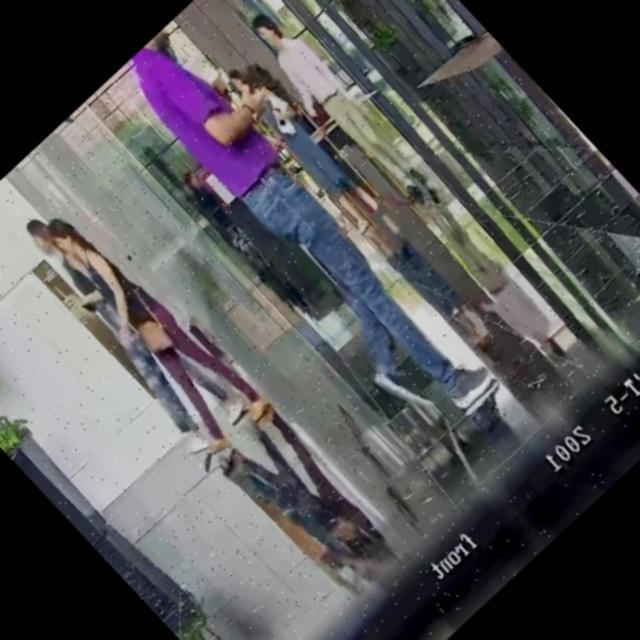person: (100, 9, 516, 442), (20, 195, 278, 464), (2, 212, 227, 448), (234, 2, 446, 224), (219, 56, 393, 240), (177, 168, 230, 224)
